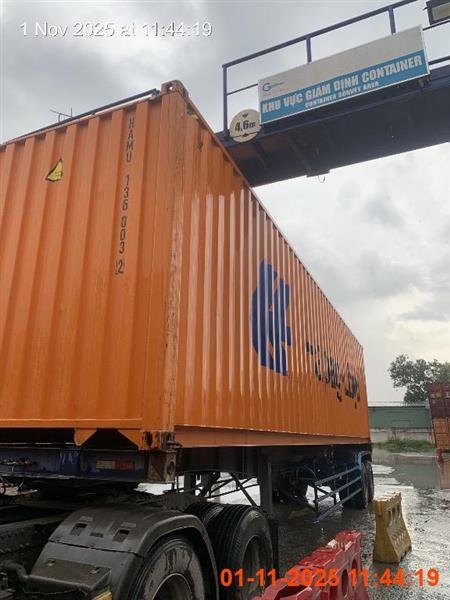broken: (0, 79, 374, 509), (0, 79, 374, 507), (250, 257, 292, 376)
